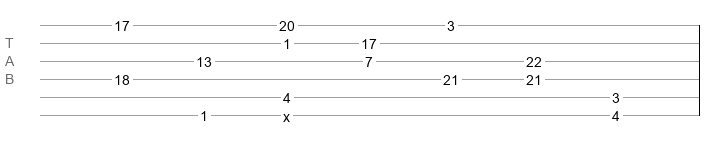1: (200, 108, 208, 118), (283, 36, 291, 46)
13: (196, 54, 212, 64)
17: (114, 18, 130, 28), (361, 36, 377, 46)
18: (114, 72, 130, 82)
20: (279, 18, 295, 28)
21: (443, 72, 459, 82), (526, 72, 542, 82)
22: (526, 54, 542, 64)
3: (447, 18, 455, 28), (612, 90, 620, 100)
4: (283, 90, 291, 100), (612, 108, 620, 118)
7: (365, 54, 373, 64)
x: (283, 109, 290, 117)
